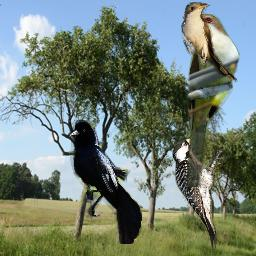Crow: (68, 120, 142, 244)
Cuckoo: (182, 13, 241, 187), (181, 2, 238, 84)
Woodpecker: (172, 131, 227, 250)
